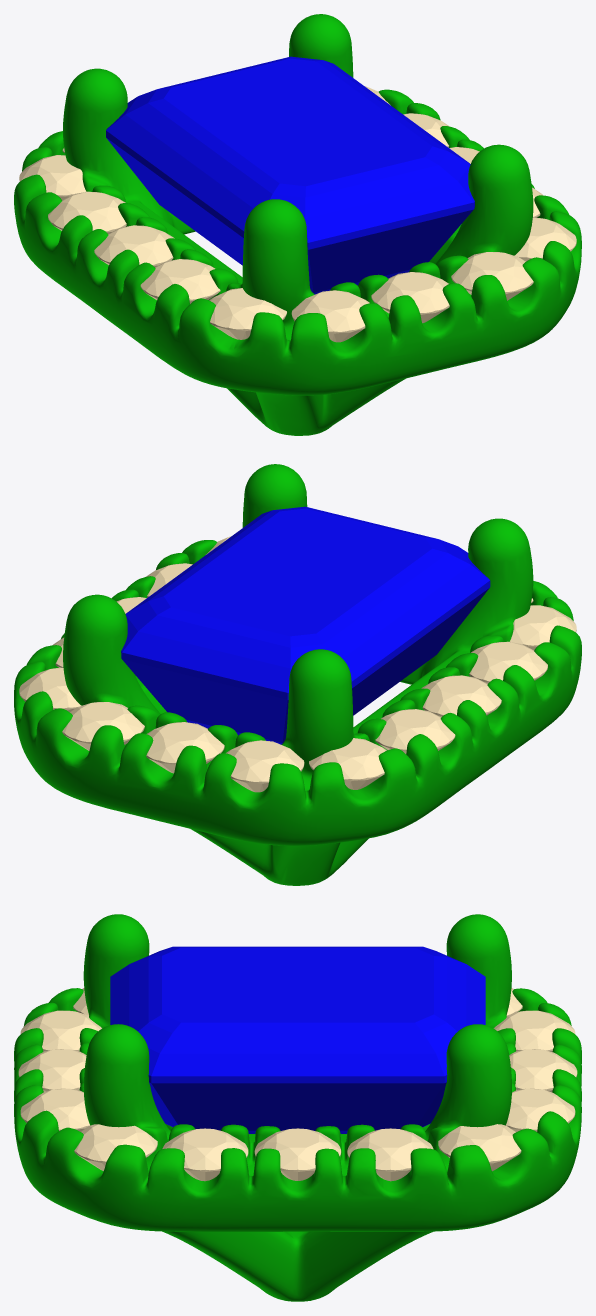
3 renders of one model, top to bottom at view 1: azimuth 30°, elevation 25°; view 2: azimuth 150°, elevation 25°; view 3: azimuth 270°, elevation 25°, orthographic.
Visible parts, largest first — view 1: Metal01, Diamond_Emerald, Diamond_Round.015, Diamond_Round.014, Diamond_Round, Diamond_Round.012, Diamond_Round.011, Diamond_Round.013, Diamond_Round.010, Diamond_Round.009, Diamond_Round.001, Diamond_Round.004; view 2: Metal01, Diamond_Emerald, Diamond_Round.008, Diamond_Round.007, Diamond_Round.006, Diamond_Round.011, Diamond_Round.010, Diamond_Round.009, Diamond_Round.012, Diamond_Round.013, Diamond_Round.005, Diamond_Round.002; view 3: Metal01, Diamond_Emerald, Diamond_Round.003, Diamond_Round.002, Diamond_Round.004, Diamond_Round.005, Diamond_Round.001, Diamond_Round.006, Diamond_Round.007, Diamond_Round.015, Diamond_Round.008, Diamond_Round.014 (+1 smaller).
Boxes of the visible parts, x1,y1,x2,y2 form: Metal01: [14, 14, 581, 435]; Diamond_Emerald: [106, 56, 474, 294]; Diamond_Round.015: [371, 272, 449, 323]; Diamond_Round.014: [291, 290, 369, 342]; Diamond_Round: [451, 252, 533, 300]; Diamond_Round.012: [140, 259, 220, 303]; Diamond_Round.011: [94, 225, 174, 266]; Diamond_Round.013: [209, 288, 286, 339]; Diamond_Round.010: [48, 191, 126, 233]; Diamond_Round.009: [19, 155, 86, 200]; Diamond_Round.001: [514, 217, 576, 261]; Diamond_Round.004: [403, 113, 449, 147]; Metal01: [14, 464, 581, 885]; Diamond_Emerald: [121, 506, 490, 744]; Diamond_Round.008: [226, 740, 304, 792]; Diamond_Round.007: [146, 722, 224, 773]; Diamond_Round.006: [62, 702, 144, 750]; Diamond_Round.011: [421, 675, 501, 717]; Diamond_Round.010: [375, 709, 455, 753]; Diamond_Round.009: [309, 738, 386, 789]; Diamond_Round.012: [469, 641, 547, 683]; Diamond_Round.013: [509, 605, 576, 650]; Diamond_Round.005: [19, 667, 81, 711]; Diamond_Round.002: [146, 563, 192, 597]; Metal01: [14, 914, 581, 1301]; Diamond_Emerald: [110, 946, 485, 1133]; Diamond_Round.003: [254, 1128, 341, 1180]; Diamond_Round.002: [162, 1128, 248, 1181]; Diamond_Round.004: [347, 1128, 433, 1181]; Diamond_Round.005: [438, 1124, 521, 1171]; Diamond_Round.001: [74, 1124, 157, 1170]; Diamond_Round.006: [506, 1088, 575, 1132]; Diamond_Round.007: [509, 1049, 577, 1092]; Diamond_Round.015: [18, 1049, 86, 1092]; Diamond_Round.008: [493, 1010, 575, 1051]; Diamond_Round.014: [20, 1010, 101, 1051].
Bounding box in the file's own units: 7.61 × 5.65 × 9.2.
